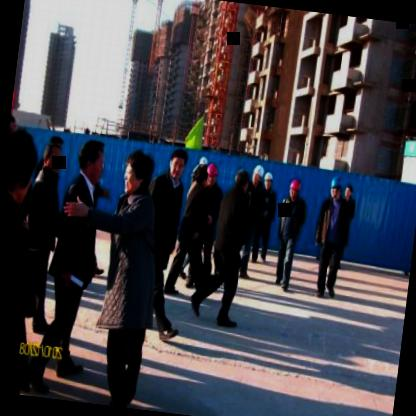head: (0, 122, 41, 215), (118, 144, 156, 200), (75, 136, 107, 188), (38, 140, 66, 178), (167, 147, 190, 184), (231, 166, 252, 198), (327, 171, 347, 204), (192, 166, 210, 194), (204, 162, 220, 192), (341, 183, 355, 203)
helmet: (284, 174, 306, 204), (250, 162, 267, 186), (261, 170, 276, 193)
